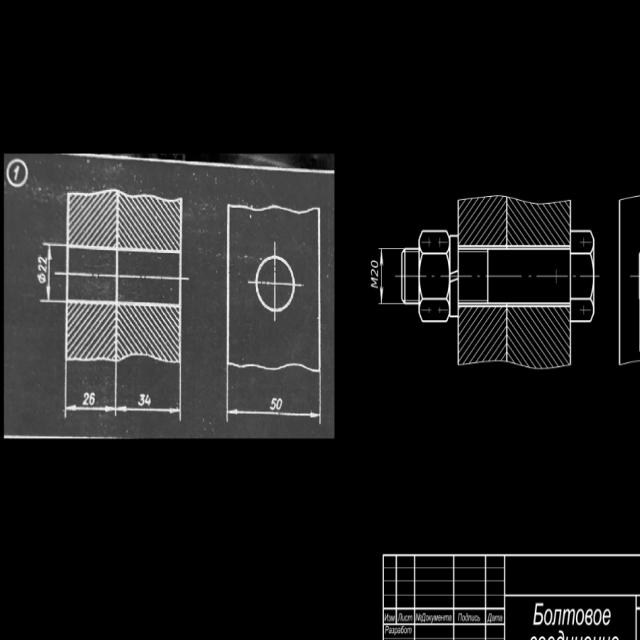marking_line: (226, 373, 322, 425), (114, 364, 182, 422), (64, 362, 118, 417), (40, 240, 66, 303), (377, 247, 400, 305)
numeric: (82, 390, 89, 406), (138, 393, 145, 407), (38, 255, 48, 264), (90, 391, 96, 406), (270, 396, 276, 411), (276, 397, 282, 412), (145, 393, 152, 405), (370, 268, 378, 278), (371, 259, 379, 269), (38, 265, 47, 272)
special_symbol: (37, 273, 47, 284)
